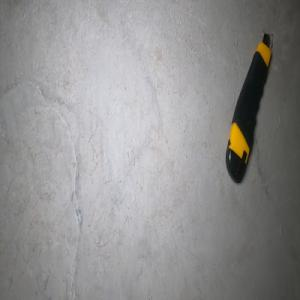Cutter: (224, 32, 272, 185)
